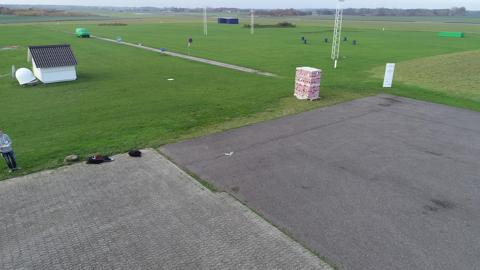RockwoolPallet: (294, 66, 322, 101)
